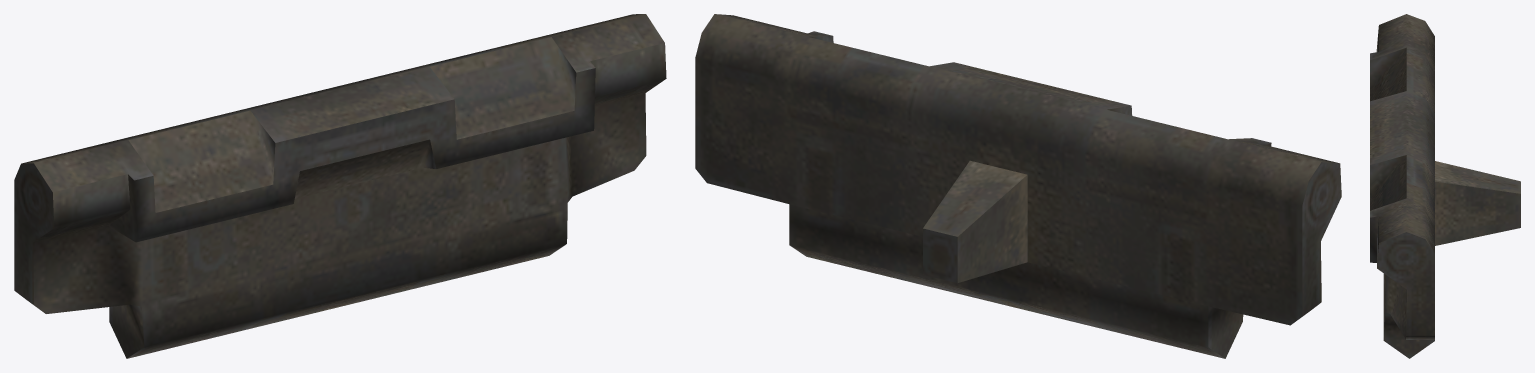
3 views of the same model, side by side, from view 1: azimuth 30°, elevation 25°; view 2: azimuth 150°, elevation 25°; view 3: azimuth 270°, elevation 25° (orthographic). The views are drawn at different scales.
Visible parts, largest first — view 1: set_0_group_0; view 2: set_0_group_0; view 3: set_0_group_0.
Part boxes in pixels (bbox=[...]): set_0_group_0: bbox=[14, 14, 666, 358]; set_0_group_0: bbox=[695, 14, 1341, 358]; set_0_group_0: bbox=[1370, 14, 1520, 358].
Size of the model in its own units: 0.7026 by 0.2415 by 0.2055.
Materials: 1 (1 with a texture image).
